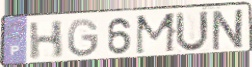6: (106, 16, 133, 56)
G: (66, 17, 101, 59)
H: (28, 19, 66, 62)
M: (134, 11, 178, 57)
N: (210, 7, 248, 52)
U: (174, 10, 211, 54)
